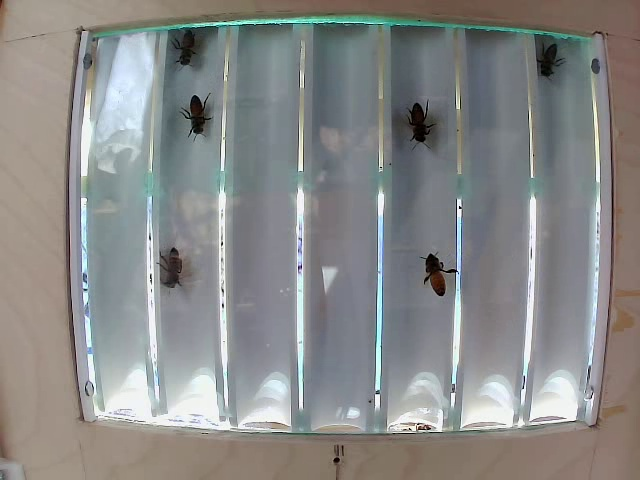bee: (396, 90, 451, 155), (143, 244, 202, 304), (417, 235, 460, 309), (184, 92, 235, 145), (173, 26, 223, 75), (541, 30, 564, 75)
